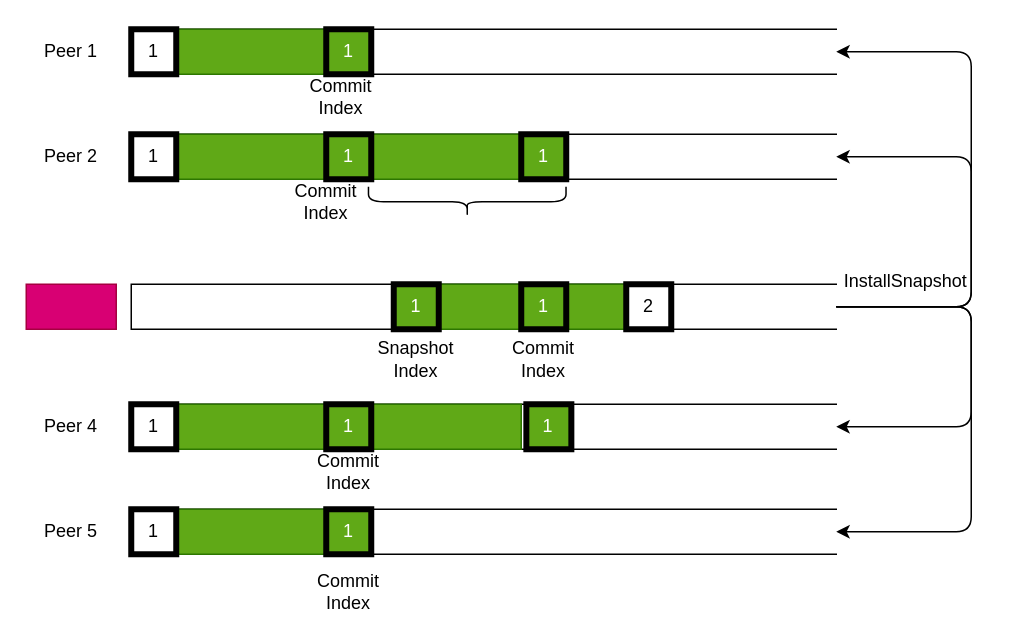
Some shapes in this 1010 by 639 pixel diagram are drawn without their labels. Each missing label, with the centre of its shape:
"Leader 3" goes at point (70, 306).
"Replicated, but uncommitted logs" goes at point (466, 201).
